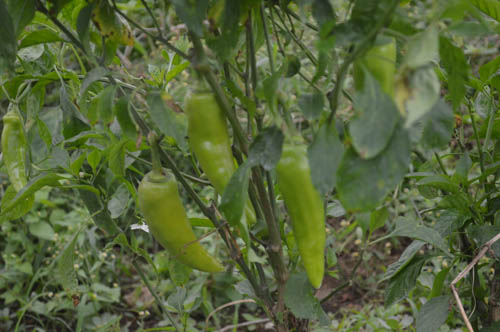ChiliPepper: (188, 89, 260, 222), (144, 175, 220, 274), (277, 146, 327, 293), (354, 43, 398, 98), (2, 115, 27, 193)
